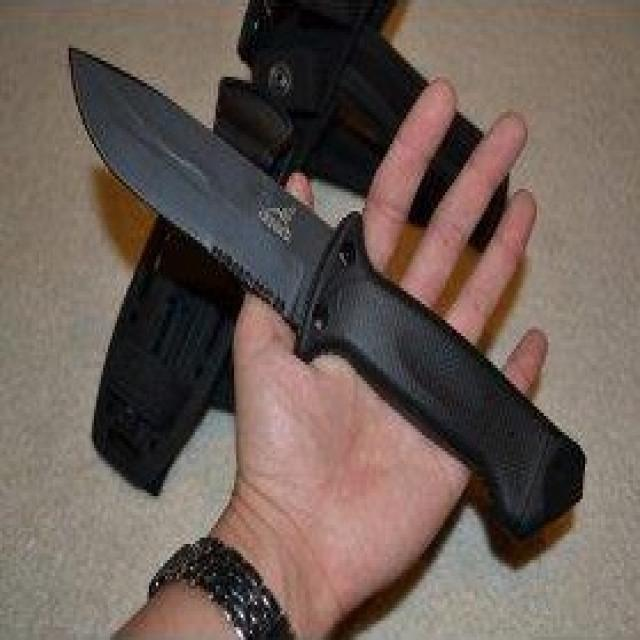knife: (64, 46, 590, 556)
